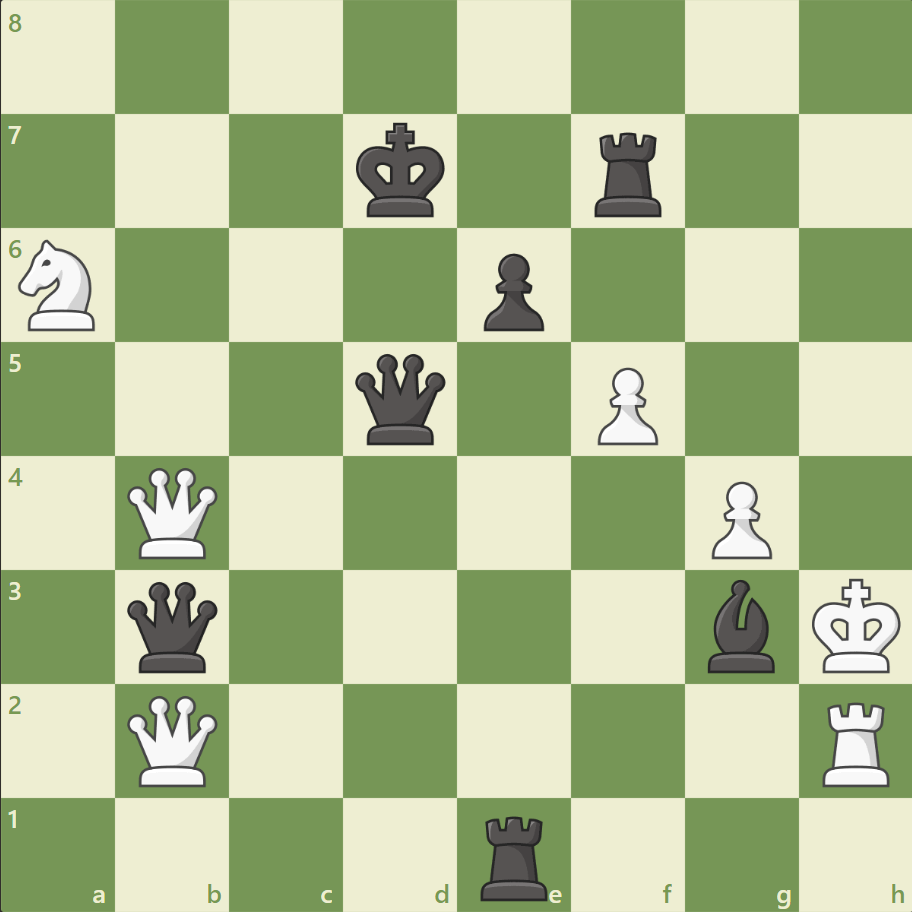K: (806, 571, 906, 679)
N: (11, 234, 108, 337)
P: (701, 473, 776, 564), (588, 359, 662, 450)
Q: (124, 463, 223, 562), (124, 690, 223, 789)
R: (814, 693, 897, 790)
b: (698, 574, 782, 676)
k: (351, 117, 451, 225)
p: (474, 246, 549, 337)
q: (351, 349, 450, 449), (124, 576, 223, 676)
r: (473, 806, 556, 904), (587, 125, 670, 222)
